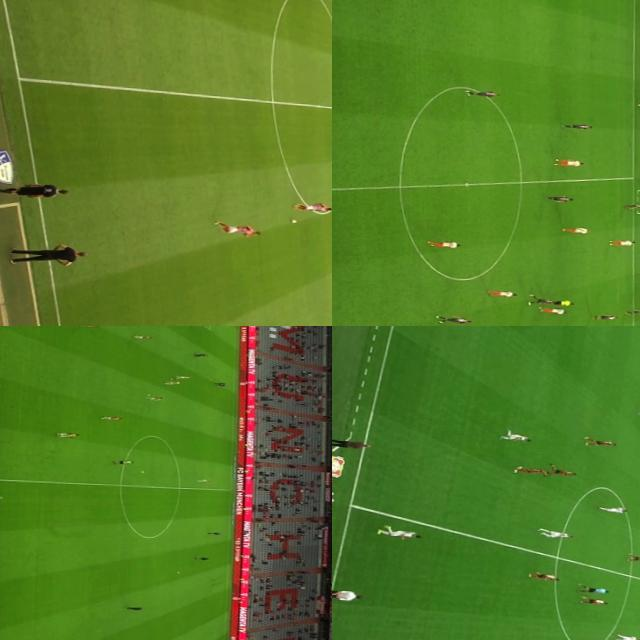ball: (287, 219, 297, 225), (137, 469, 147, 475), (167, 377, 174, 381), (172, 571, 179, 574), (146, 392, 150, 397)
player: (368, 524, 426, 538), (208, 222, 260, 235), (534, 530, 576, 540), (510, 464, 550, 474), (291, 202, 332, 211), (424, 238, 460, 248), (526, 294, 556, 306), (494, 432, 534, 441), (434, 315, 472, 324), (522, 572, 564, 580), (463, 89, 499, 98), (561, 122, 593, 131), (549, 158, 583, 166), (54, 430, 80, 440), (606, 238, 634, 247), (486, 290, 516, 298), (544, 195, 574, 203), (547, 468, 577, 476), (597, 506, 631, 513), (584, 438, 616, 445), (538, 307, 568, 314), (562, 227, 588, 234), (592, 314, 618, 321), (620, 202, 640, 211), (613, 634, 639, 640), (581, 598, 607, 604), (162, 379, 180, 386), (627, 554, 640, 563), (101, 416, 123, 421), (625, 309, 640, 316), (112, 460, 132, 465), (132, 335, 152, 340), (146, 396, 162, 402), (175, 374, 191, 380), (214, 381, 228, 387), (126, 606, 142, 611), (632, 408, 640, 417), (195, 353, 209, 358), (194, 556, 208, 560), (197, 478, 210, 482), (208, 532, 220, 536), (79, 326, 101, 328)
